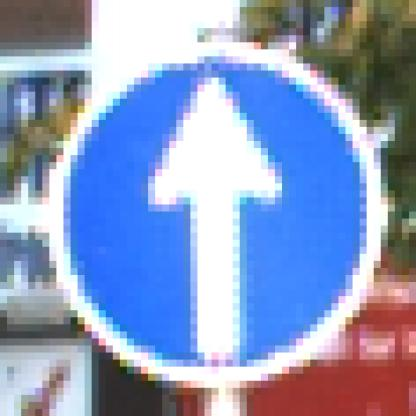AheadOnly: (43, 43, 382, 382)
